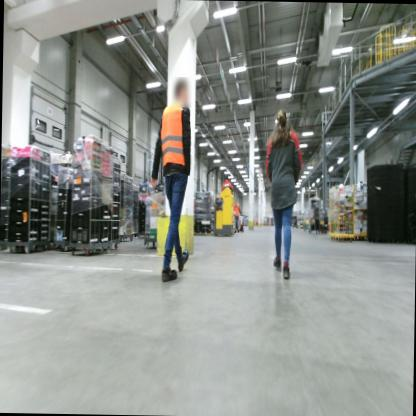pallet_truck: (185, 179, 237, 241)
